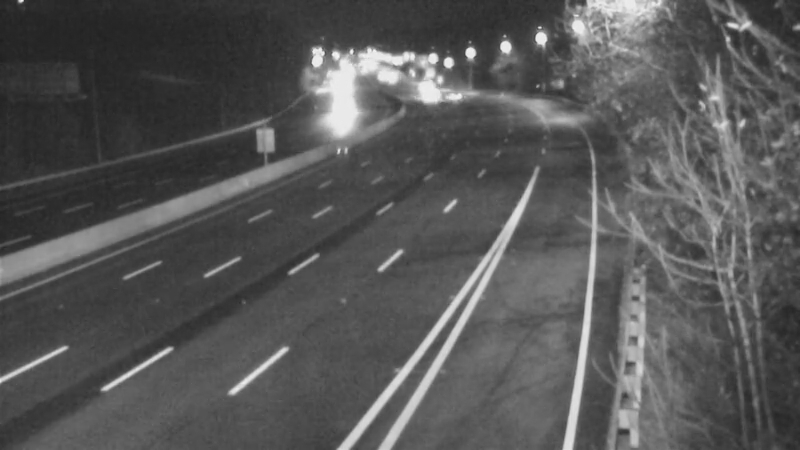vehicle: (402, 60, 452, 110), (431, 71, 481, 121), (405, 71, 455, 121), (317, 90, 367, 140)
